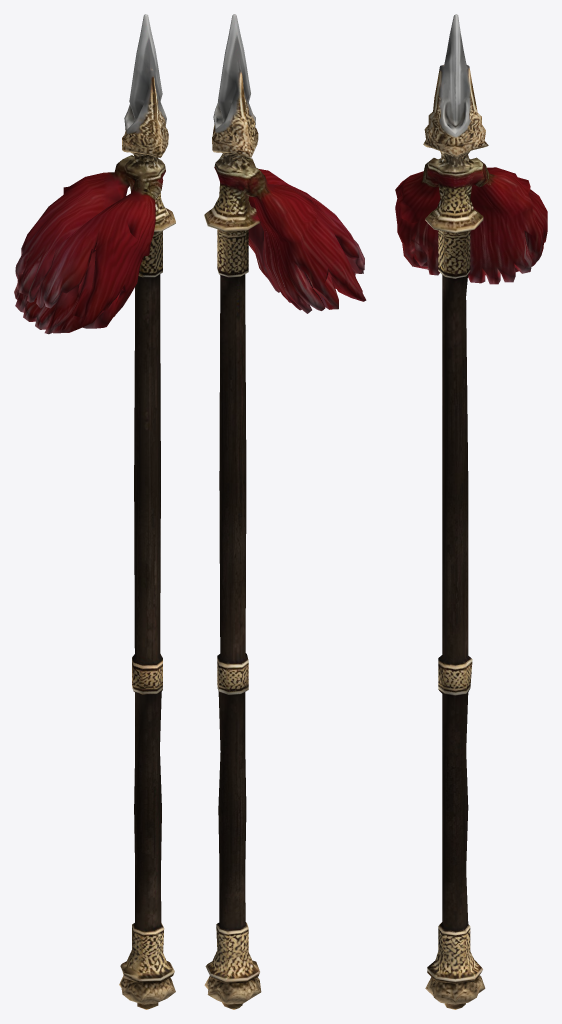
Rendered from machao_spear.glb.
3 views of the same model, side by side, from view 1: azimuth 30°, elevation 25°; view 2: azimuth 210°, elevation 25°; view 3: azimuth 270°, elevation 25° (orthographic).
Parts seen in each view (by area): view 1: tripo_node_164c2890-d382-4dd9-9b9c-bcee4b7c925c; view 2: tripo_node_164c2890-d382-4dd9-9b9c-bcee4b7c925c; view 3: tripo_node_164c2890-d382-4dd9-9b9c-bcee4b7c925c.
Boxes of the visible parts, bbox=[...] form: tripo_node_164c2890-d382-4dd9-9b9c-bcee4b7c925c: bbox=[14, 14, 175, 1009]; tripo_node_164c2890-d382-4dd9-9b9c-bcee4b7c925c: bbox=[204, 14, 366, 1009]; tripo_node_164c2890-d382-4dd9-9b9c-bcee4b7c925c: bbox=[395, 14, 547, 1009].
Size of the model in its own units: 0.1429 by 1 by 0.1389.
Materials: 1 (1 with a texture image).
